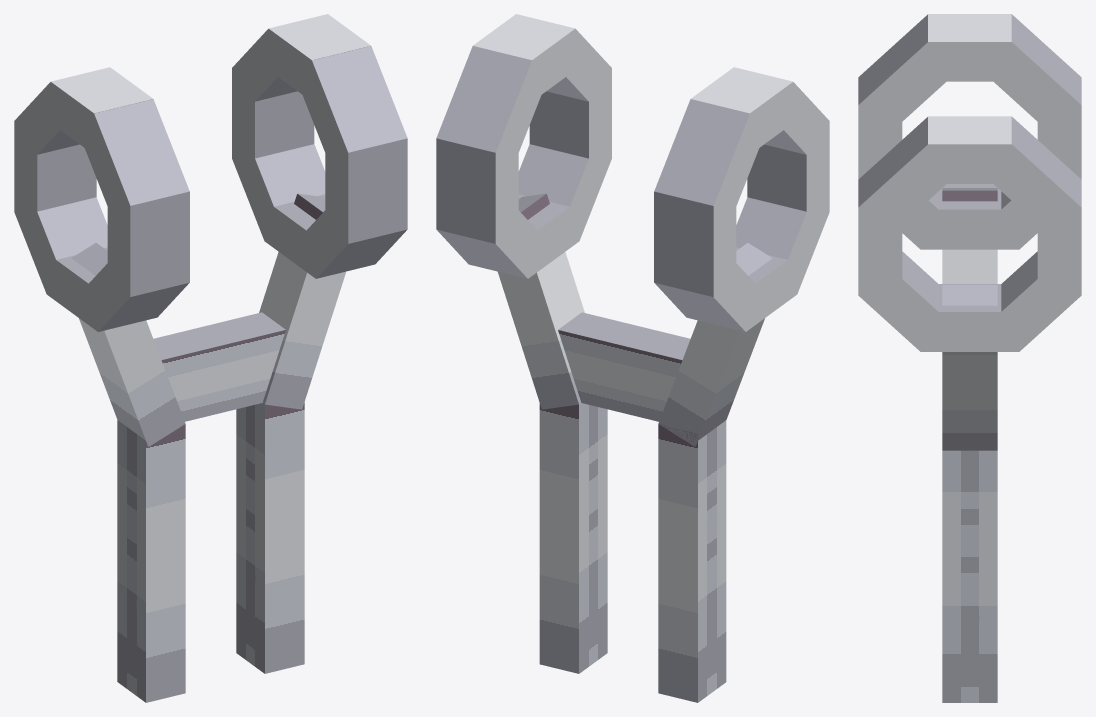
Rendered from overhead_pillar_concrete_truss_hanger_double.obj.
3 renders of one model, left to right at view 1: azimuth 30°, elevation 25°; view 2: azimuth 150°, elevation 25°; view 3: azimuth 270°, elevation 25°, orthographic. The views are drawn at different scales.
Parts seen in each view (by area): view 1: hanger_pole; view 2: hanger_pole; view 3: hanger_pole.
Boxes of the visible parts, x1=… form: hanger_pole: x1=14, y1=14, x2=407, y2=702; hanger_pole: x1=436, y1=14, x2=829, y2=702; hanger_pole: x1=858, y1=14, x2=1081, y2=702.
Bounding box in the file's own units: 0.875 × 1.84 × 0.6348.
